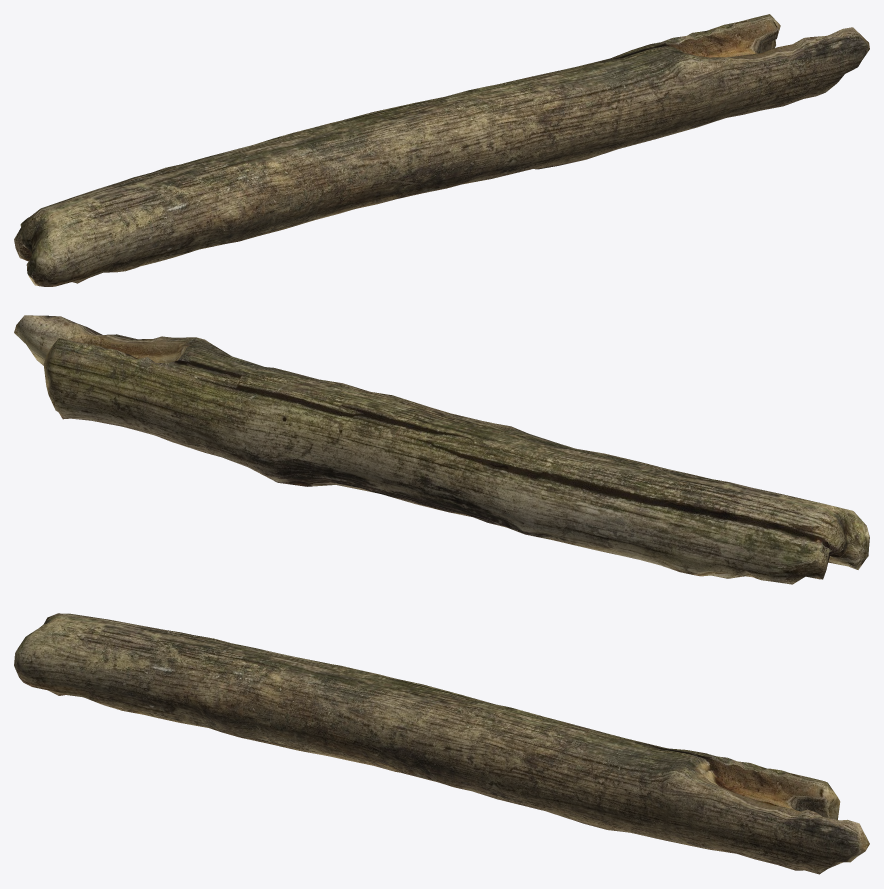
The model's file is stick06.glb.
The picture shows the model from 3 angles, top to bottom: view 1: azimuth 30°, elevation 25°; view 2: azimuth 150°, elevation 25°; view 3: azimuth 330°, elevation 25°; orthographic projection.
Parts seen in each view (by area): view 1: stick_06_stick_06_0; view 2: stick_06_stick_06_0; view 3: stick_06_stick_06_0.
Boxes of the visible parts, left/top/right/bottom form: stick_06_stick_06_0: left=14, top=14, right=869, bottom=286; stick_06_stick_06_0: left=14, top=315, right=869, bottom=584; stick_06_stick_06_0: left=14, top=613, right=869, bottom=874.
Bounding box in the file's own units: 1.3 × 0.1464 × 0.1596.
1 material, 1 textured.
